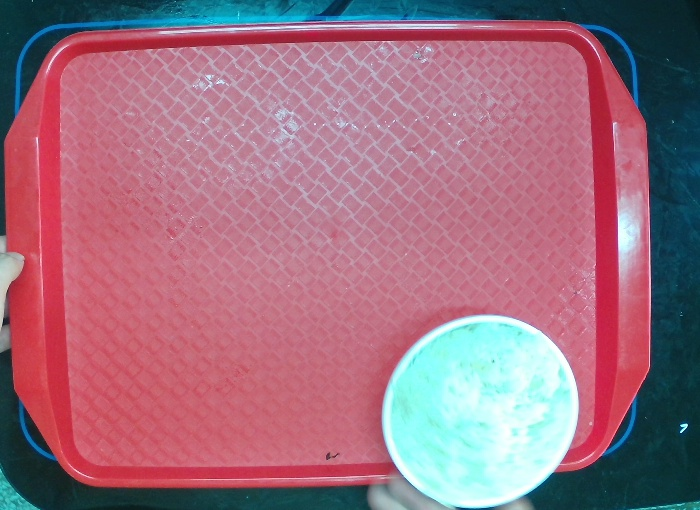YKMZ-Fan_Wan: (369, 294, 596, 510)
